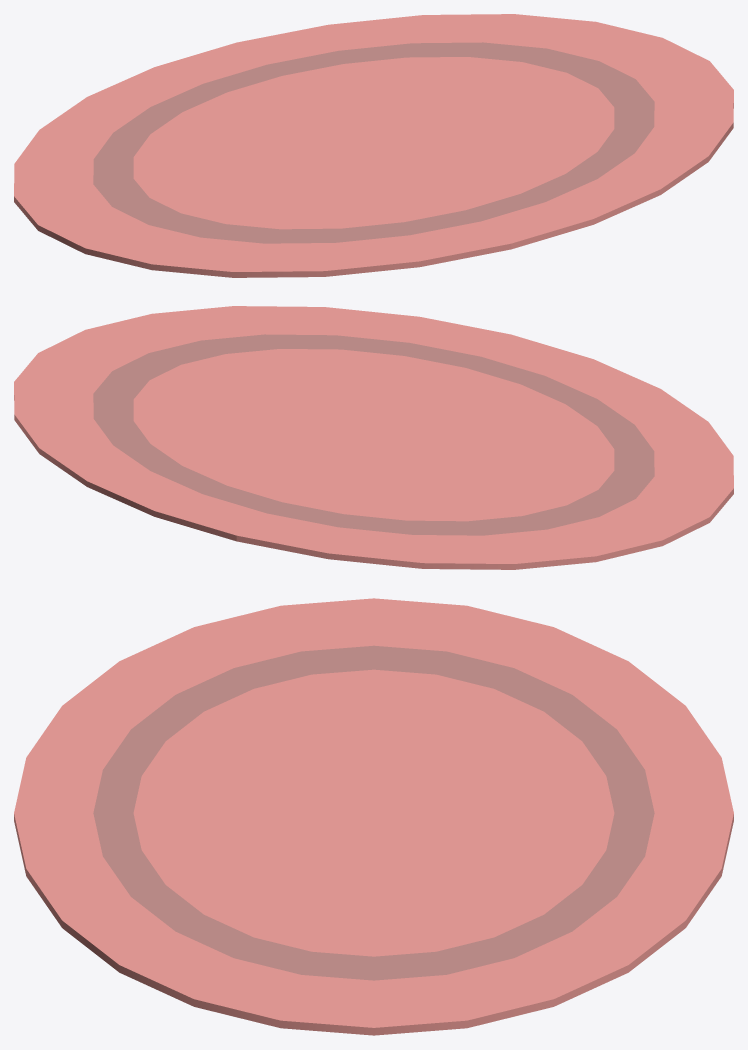
File: kk-rugRound.glb
The picture shows the model from 3 angles, top to bottom: view 1: azimuth 30°, elevation 25°; view 2: azimuth 150°, elevation 25°; view 3: azimuth 270°, elevation 25°; orthographic projection. The views are drawn at different scales.
Visible parts, largest first — view 1: rugRound(Clone); view 2: rugRound(Clone); view 3: rugRound(Clone).
Part boxes in pixels (bbox=[...]): rugRound(Clone): bbox=[14, 14, 733, 277]; rugRound(Clone): bbox=[14, 306, 733, 569]; rugRound(Clone): bbox=[14, 598, 733, 1035].
Size of the model in its own units: 1 by 0.0083 by 0.7083.
